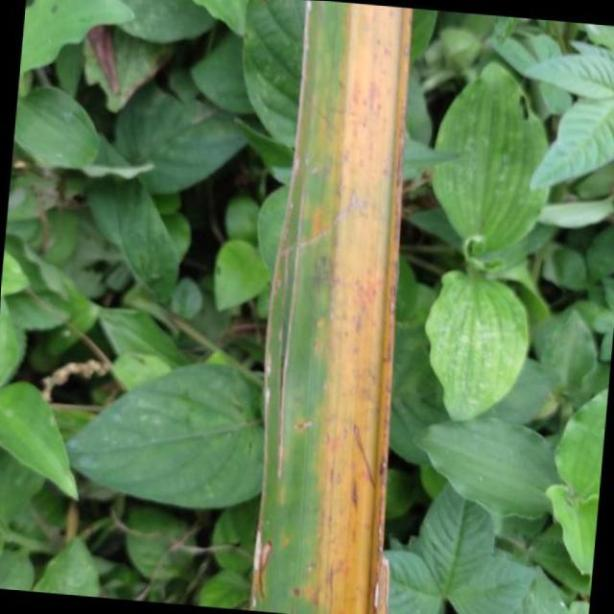Megnesium: (253, 0, 414, 614)
